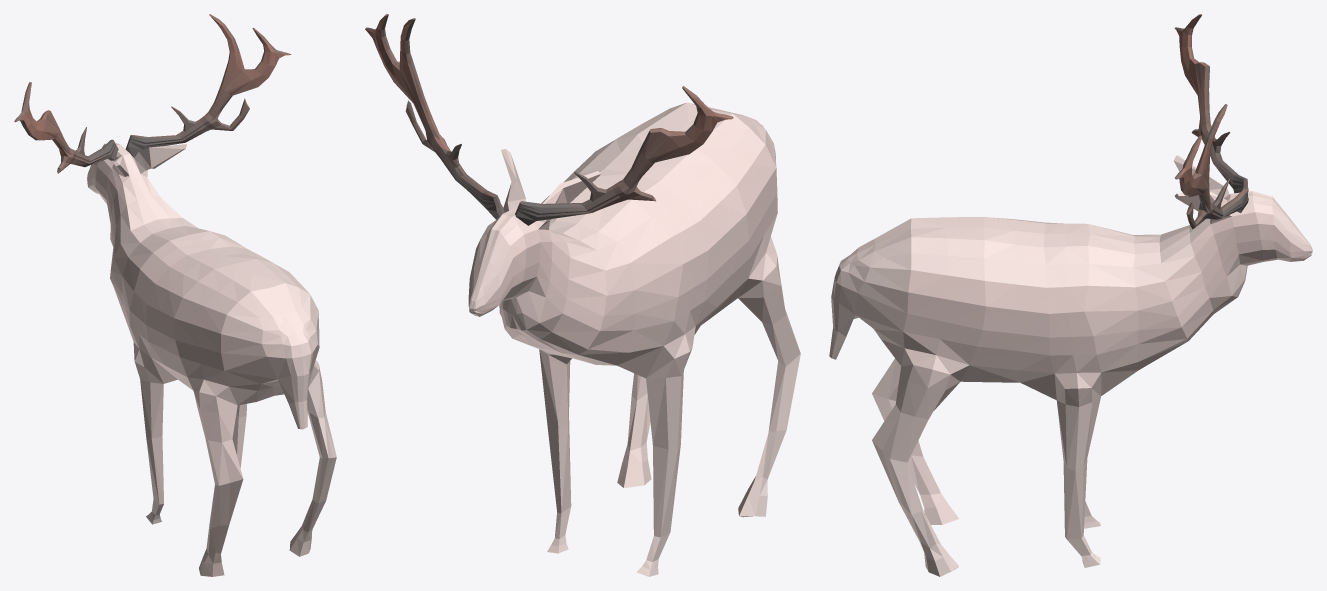
File: Deer_1.fbx
The picture shows the model from 3 angles, left to right: view 1: azimuth 30°, elevation 25°; view 2: azimuth 150°, elevation 25°; view 3: azimuth 270°, elevation 25°; orthographic projection. The views are drawn at different scales.
Parts seen in each view (by area): view 1: polySurface41; view 2: polySurface41; view 3: polySurface41.
Boxes of the visible parts, x1=… form: polySurface41: x1=14, y1=14, x2=336, y2=576; polySurface41: x1=365, y1=14, x2=800, y2=576; polySurface41: x1=829, y1=14, x2=1312, y2=576.
Size of the model in its own units: 2.27 by 3.42 by 3.07.
Materials: 1 (1 with a texture image).
